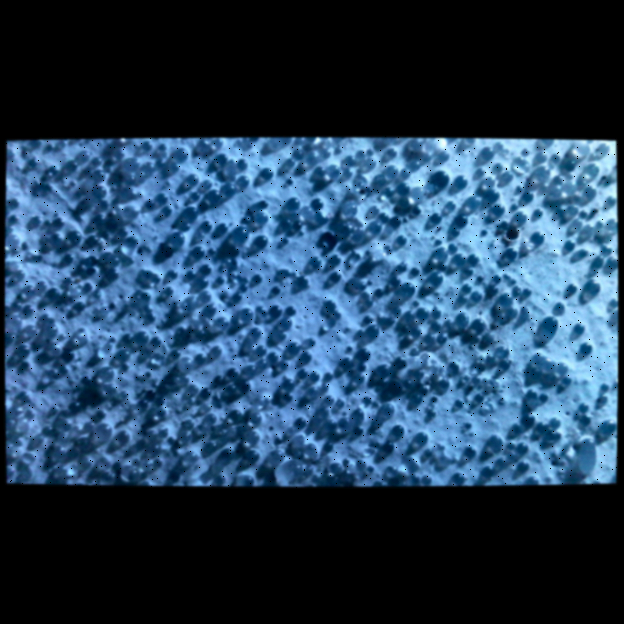GrassBeadSeg: (114, 155, 572, 462), (47, 146, 486, 442), (77, 149, 537, 394), (69, 228, 580, 443), (155, 152, 610, 393), (95, 145, 487, 418), (43, 142, 591, 329), (220, 181, 563, 455), (140, 139, 547, 364), (109, 144, 437, 417), (143, 161, 506, 398), (123, 162, 484, 398), (12, 248, 547, 400), (61, 251, 615, 397), (218, 255, 605, 459), (45, 142, 419, 353), (102, 244, 606, 400), (117, 210, 473, 426), (161, 248, 570, 435), (91, 212, 560, 372), (152, 168, 531, 361), (96, 178, 469, 374), (210, 136, 486, 399), (123, 204, 533, 381), (24, 219, 533, 359), (9, 156, 441, 315), (45, 145, 496, 297), (322, 194, 616, 426), (160, 177, 512, 368), (21, 138, 365, 324), (186, 180, 450, 419), (205, 168, 451, 423), (97, 198, 485, 359), (98, 201, 422, 389), (148, 210, 599, 345), (143, 141, 510, 306), (199, 232, 531, 414), (97, 211, 444, 380), (286, 163, 543, 378), (199, 190, 586, 331), (45, 154, 305, 354), (244, 200, 458, 442), (213, 144, 396, 415), (340, 166, 549, 399), (197, 289, 590, 411), (326, 176, 568, 372), (113, 148, 366, 334), (91, 163, 399, 311), (91, 153, 515, 258), (122, 159, 356, 344), (35, 154, 357, 287), (192, 156, 378, 382), (26, 161, 260, 337), (176, 241, 468, 382), (43, 329, 608, 400), (240, 215, 423, 428), (239, 252, 576, 366), (177, 147, 532, 254), (409, 199, 605, 390), (259, 198, 493, 357), (6, 147, 119, 476), (185, 192, 617, 278), (224, 183, 480, 324), (101, 250, 321, 412), (375, 213, 593, 375), (267, 304, 504, 446), (178, 226, 567, 311), (235, 207, 544, 314), (354, 151, 588, 291), (318, 194, 510, 357), (317, 151, 431, 416), (292, 220, 604, 316), (277, 315, 535, 428), (225, 245, 476, 360), (8, 313, 389, 385), (496, 146, 591, 423), (310, 196, 578, 292), (374, 230, 545, 373), (13, 383, 428, 441), (15, 268, 179, 414), (409, 156, 531, 350), (121, 156, 401, 240), (16, 313, 558, 355), (66, 228, 415, 293), (230, 225, 513, 301), (436, 173, 564, 341), (117, 165, 413, 236), (155, 172, 326, 292), (89, 167, 183, 357), (201, 245, 519, 301), (6, 383, 199, 475), (270, 177, 421, 291), (59, 333, 495, 369), (484, 186, 564, 382), (236, 278, 600, 321), (193, 147, 305, 286), (550, 219, 616, 447), (14, 246, 130, 374), (367, 168, 507, 271), (26, 156, 186, 245), (309, 217, 576, 267), (364, 162, 612, 209), (131, 138, 242, 243), (377, 136, 423, 386), (14, 390, 169, 463), (494, 139, 589, 256), (253, 223, 462, 276), (76, 149, 599, 170), (103, 267, 263, 335), (136, 374, 482, 404), (370, 146, 412, 391), (221, 155, 496, 190), (498, 169, 562, 312), (336, 340, 439, 427), (286, 166, 486, 209), (58, 364, 294, 400), (440, 262, 499, 404), (161, 283, 412, 314), (21, 275, 218, 313), (481, 222, 617, 277), (205, 436, 349, 485), (286, 189, 359, 285), (424, 153, 469, 303), (523, 142, 609, 216), (33, 214, 138, 271), (351, 232, 434, 304), (231, 398, 304, 477), (160, 203, 189, 383), (6, 408, 82, 471), (397, 180, 443, 284), (52, 139, 121, 208), (281, 304, 337, 389), (130, 162, 179, 259), (436, 376, 535, 424), (198, 262, 285, 316), (240, 135, 333, 185), (63, 400, 159, 448), (145, 355, 237, 400), (26, 404, 95, 460), (16, 301, 85, 357), (325, 163, 600, 177), (376, 440, 463, 483), (59, 332, 131, 383), (239, 350, 318, 395), (296, 424, 369, 472), (335, 361, 381, 433), (384, 186, 442, 243), (261, 395, 317, 453), (366, 260, 407, 336), (174, 304, 222, 368), (203, 140, 253, 201), (452, 440, 528, 480), (10, 180, 77, 225), (326, 143, 420, 175), (149, 406, 202, 462), (81, 429, 138, 477), (538, 152, 596, 195), (314, 213, 370, 256), (558, 172, 603, 224), (65, 283, 152, 309), (186, 397, 227, 452), (126, 435, 174, 478), (370, 440, 419, 481), (8, 217, 64, 252), (522, 180, 579, 214), (324, 355, 368, 399), (73, 299, 116, 344), (372, 368, 424, 404), (534, 150, 586, 185), (252, 201, 358, 217), (71, 281, 129, 310), (324, 298, 372, 333), (77, 290, 151, 312), (513, 421, 539, 483), (246, 330, 287, 367), (146, 300, 198, 329), (411, 314, 442, 362), (489, 276, 520, 321), (446, 290, 482, 327), (112, 160, 149, 196), (314, 210, 363, 236), (453, 209, 527, 226), (419, 357, 470, 379), (416, 369, 446, 405), (452, 173, 482, 208), (269, 329, 301, 361), (110, 329, 149, 354), (216, 363, 257, 386), (388, 299, 419, 329), (144, 141, 173, 173), (508, 440, 529, 483), (183, 172, 200, 217), (462, 266, 490, 293), (51, 159, 79, 186), (514, 420, 560, 436), (346, 326, 370, 356), (216, 265, 248, 284), (320, 381, 344, 405), (393, 306, 430, 319), (217, 281, 242, 295), (353, 176, 372, 190), (235, 293, 243, 299)
